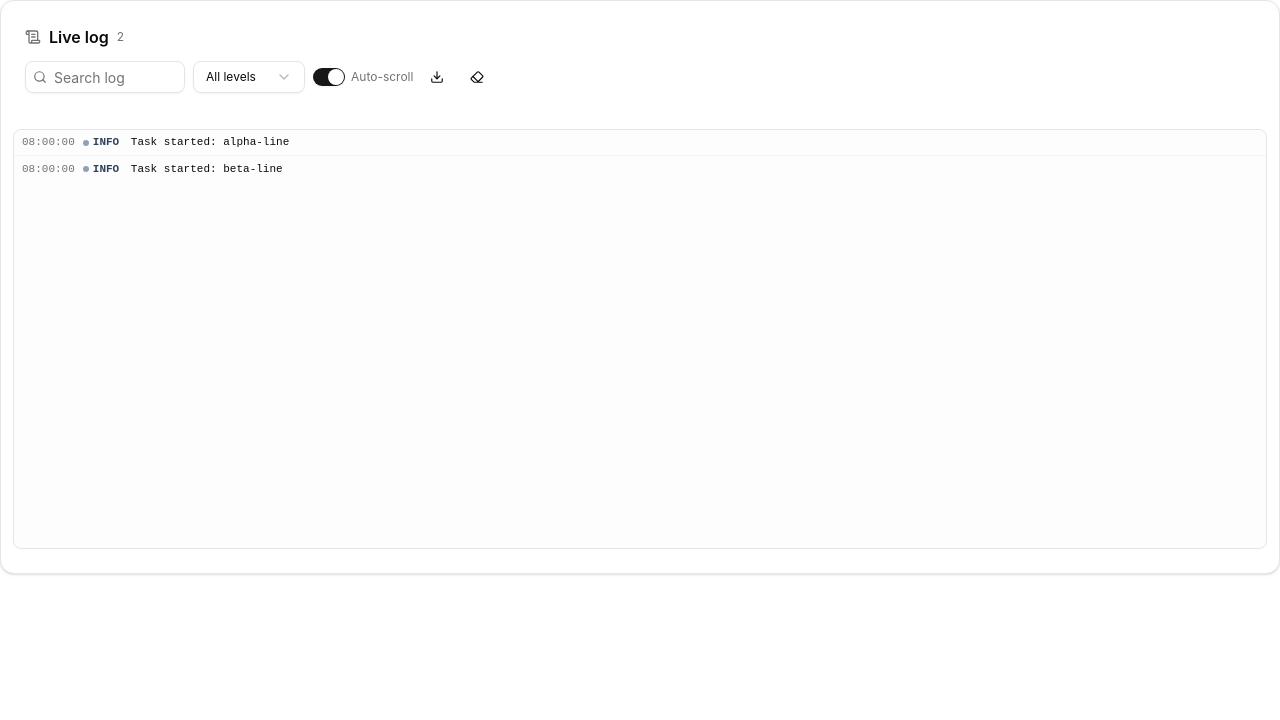
LogPanel › filters by keyword on the rendered text / 依呈現文字篩選
This screenshot has width=1280, height=720.
Type "beta" into the field with placeholder "Search log".
click(105, 77); type("beta")  # box [25, 61, 185, 93]
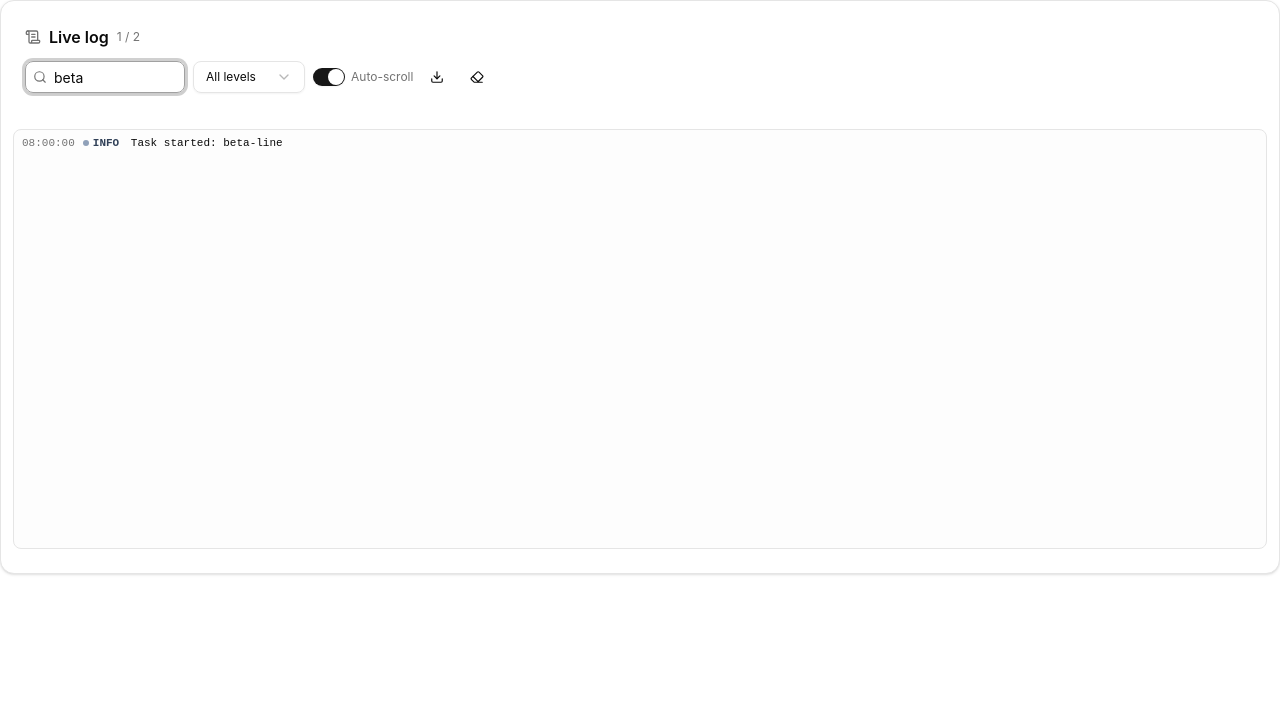
expect the text "Task started: beta-line" is shown: met, box [131, 135, 283, 151]
expect the text "Task started: alpha-line" is gone: met
